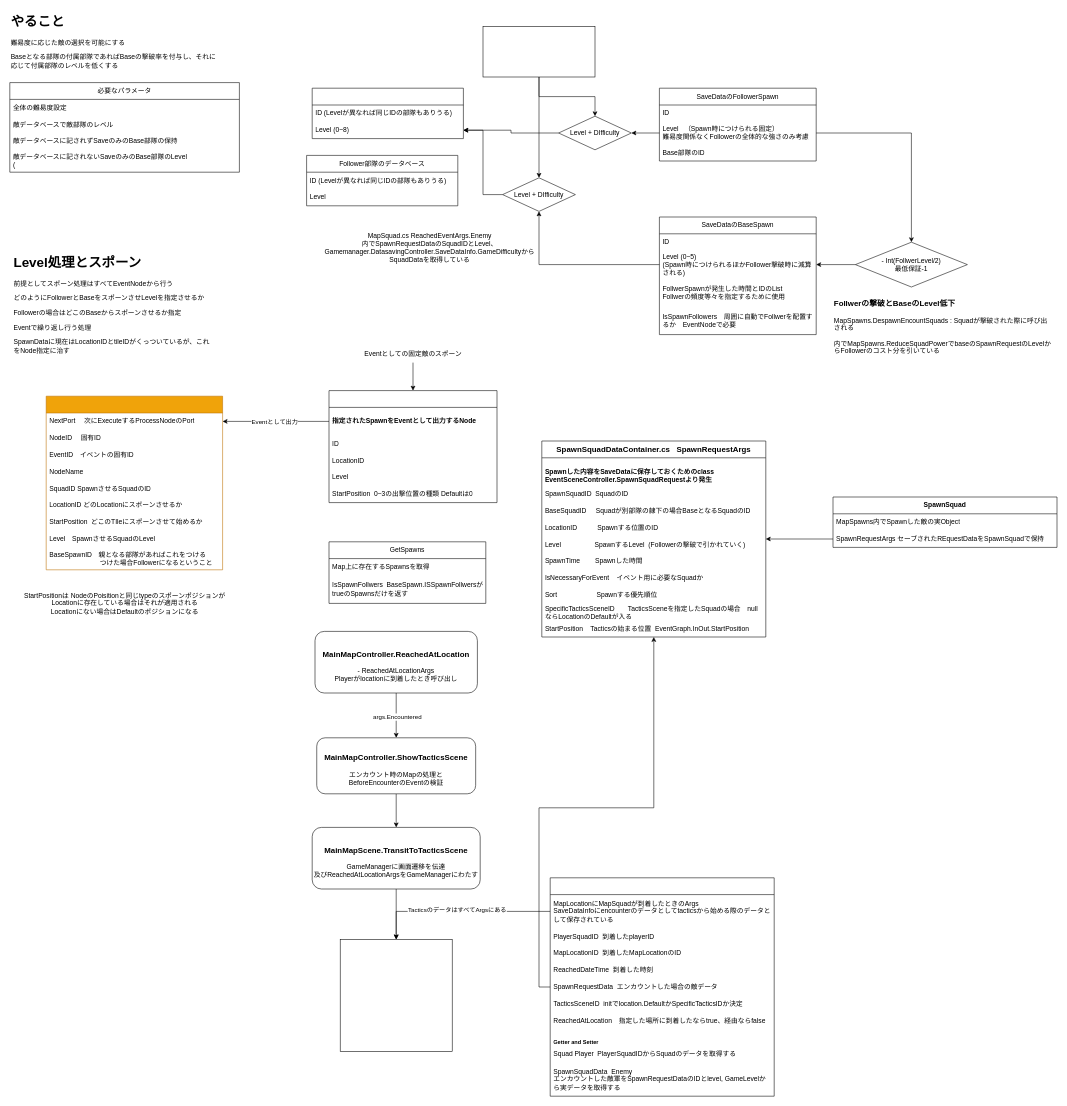
Some shapes in this 1067 by 1106 pixel diagram are drawn without their labels. The shapes that lost their labels are listed below. From the top down, each one's box as (x1, y1, x2, y2) in pixels, then its label:
(482, 26, 595, 77): 全体の難易度 Difficulty (0~2)
(312, 88, 463, 139): Base部隊のデータベース
(328, 390, 497, 503): SpawnNode
(46, 396, 223, 570): SpawnEventOutput: EventOutput
(340, 939, 452, 1051): TacticsScene
(550, 877, 774, 1096): [serializable] MapSquads.ReachedEventArgs
